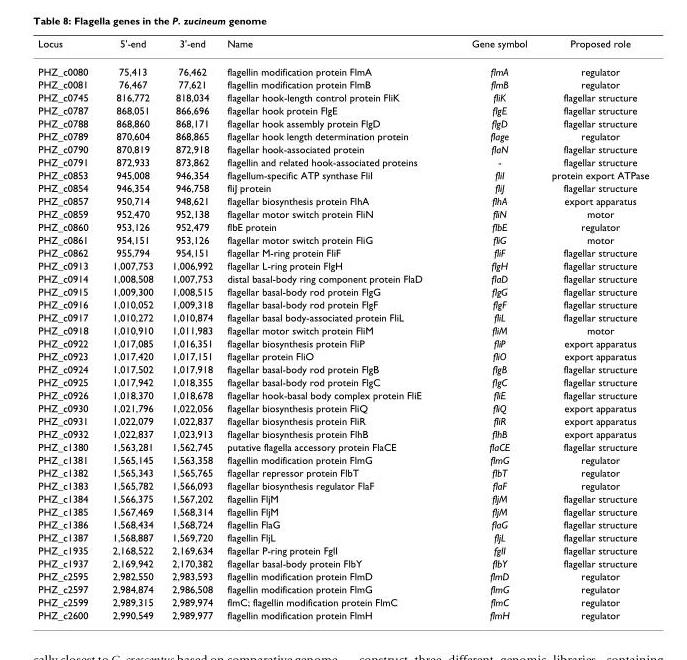table: (37, 37, 648, 620)
table column: (219, 37, 446, 620), (538, 37, 648, 620), (446, 37, 538, 620), (37, 37, 99, 620), (99, 37, 161, 620), (161, 37, 219, 620)
table column header: (37, 37, 648, 57)
table row: (37, 37, 648, 57), (37, 57, 648, 77), (37, 77, 648, 90), (37, 90, 648, 103), (37, 103, 648, 116), (37, 116, 648, 129), (37, 129, 648, 142), (37, 142, 648, 155), (37, 155, 648, 168), (37, 168, 648, 181), (37, 181, 648, 194), (37, 194, 648, 207), (37, 207, 648, 220), (37, 220, 648, 233), (37, 245, 648, 258), (37, 258, 648, 271), (37, 271, 648, 284), (37, 284, 648, 297), (37, 297, 648, 310), (37, 310, 648, 323), (37, 323, 648, 336), (37, 336, 648, 349), (37, 349, 648, 362), (37, 362, 648, 375), (37, 375, 648, 388), (37, 388, 648, 401), (37, 401, 648, 414), (37, 414, 648, 427), (37, 427, 648, 440), (37, 440, 648, 453), (37, 465, 648, 478), (37, 478, 648, 491), (37, 491, 648, 504), (37, 504, 648, 517), (37, 517, 648, 530), (37, 530, 648, 543), (37, 543, 648, 556), (37, 556, 648, 569), (37, 569, 648, 582), (37, 582, 648, 595), (37, 595, 648, 608), (37, 233, 648, 245), (37, 453, 648, 465), (37, 608, 648, 620)
